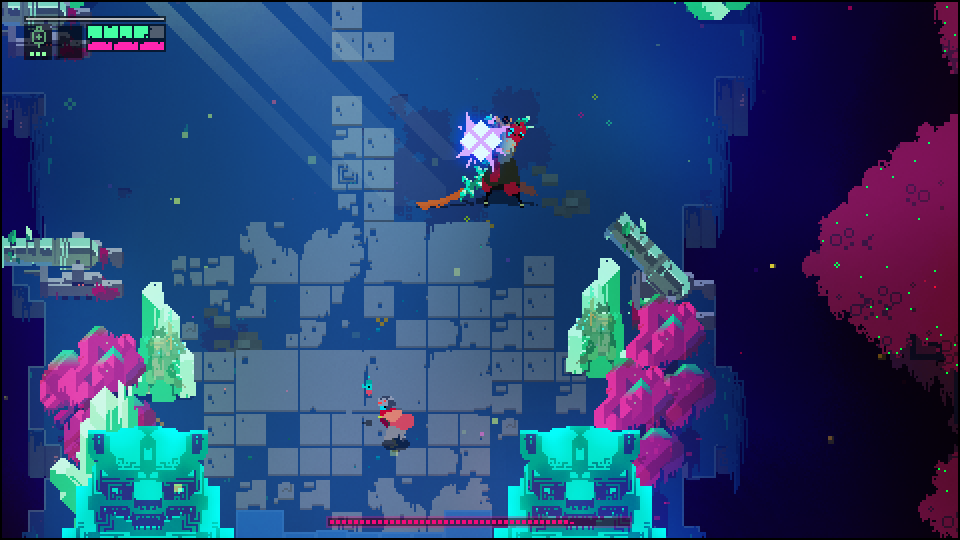hanged_man: (446, 110, 541, 213)
hanged_shot: (458, 119, 503, 163)
player: (372, 396, 414, 455)
